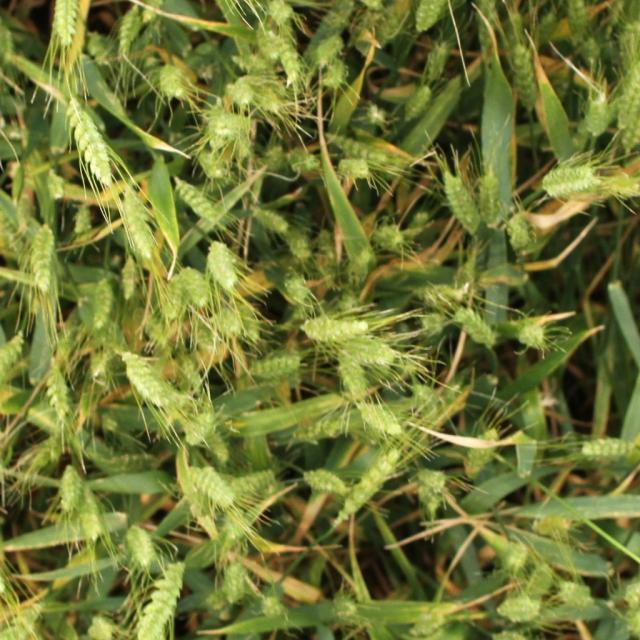wheat: (69, 100, 112, 184), (138, 564, 183, 639), (346, 451, 398, 511), (304, 3, 349, 58), (5, 161, 64, 199), (125, 189, 157, 258), (126, 355, 170, 405), (292, 415, 355, 440), (512, 47, 537, 109), (176, 180, 215, 219), (446, 177, 475, 229), (344, 338, 396, 366), (417, 469, 449, 514), (542, 167, 596, 193), (614, 78, 640, 132), (341, 137, 390, 165), (195, 466, 231, 504), (464, 430, 494, 475), (378, 0, 410, 41), (207, 242, 236, 287), (304, 319, 368, 339), (32, 229, 52, 291), (339, 354, 364, 403), (4, 603, 40, 637), (361, 404, 399, 436), (459, 311, 493, 346), (80, 489, 102, 539), (277, 26, 299, 76), (477, 174, 499, 224), (88, 349, 120, 383), (473, 0, 495, 49), (182, 268, 211, 305), (585, 441, 635, 462), (98, 451, 155, 469), (303, 470, 345, 494), (36, 433, 64, 469), (2, 218, 27, 258), (251, 356, 300, 376), (47, 372, 69, 416), (282, 227, 310, 261), (55, 2, 77, 45), (118, 6, 138, 53), (501, 597, 538, 622), (128, 527, 151, 567), (92, 281, 112, 327), (162, 277, 182, 323), (208, 109, 232, 147), (415, 0, 444, 31), (15, 179, 33, 228), (233, 470, 273, 492), (3, 331, 25, 370), (253, 209, 287, 234), (258, 25, 283, 59), (62, 465, 80, 511), (418, 285, 461, 304), (188, 412, 213, 444), (589, 96, 609, 136), (238, 303, 262, 336), (335, 158, 371, 180), (254, 84, 282, 112), (218, 114, 253, 136), (407, 87, 430, 120), (560, 582, 588, 609), (214, 306, 240, 335), (414, 612, 445, 636), (626, 588, 640, 640), (224, 565, 244, 601), (566, 0, 586, 36), (205, 430, 227, 462), (427, 44, 447, 79), (508, 213, 526, 251), (158, 67, 183, 94), (88, 31, 108, 63), (506, 541, 527, 571), (292, 151, 317, 176), (286, 274, 308, 302), (229, 80, 251, 107), (319, 37, 341, 64), (520, 325, 543, 349), (123, 260, 138, 296), (352, 251, 370, 281), (194, 325, 214, 352), (198, 154, 222, 176), (263, 145, 285, 169), (541, 517, 567, 537), (267, 1, 289, 23), (206, 589, 227, 612), (76, 206, 92, 236), (624, 119, 640, 149), (606, 1, 625, 26), (183, 360, 201, 386), (239, 55, 268, 71), (326, 63, 347, 85), (0, 27, 13, 62), (91, 617, 113, 637), (378, 227, 398, 249), (334, 598, 354, 618), (339, 291, 359, 311), (265, 597, 283, 619), (236, 139, 254, 161), (145, 0, 163, 22), (584, 39, 598, 65), (422, 317, 442, 335), (367, 106, 385, 125), (410, 213, 430, 230), (316, 231, 330, 252), (412, 384, 430, 400), (200, 65, 217, 77)
